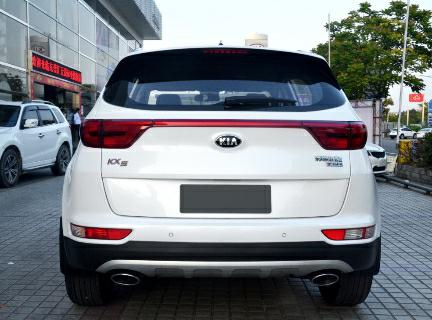起亚-KX5: (54, 39, 388, 313)
